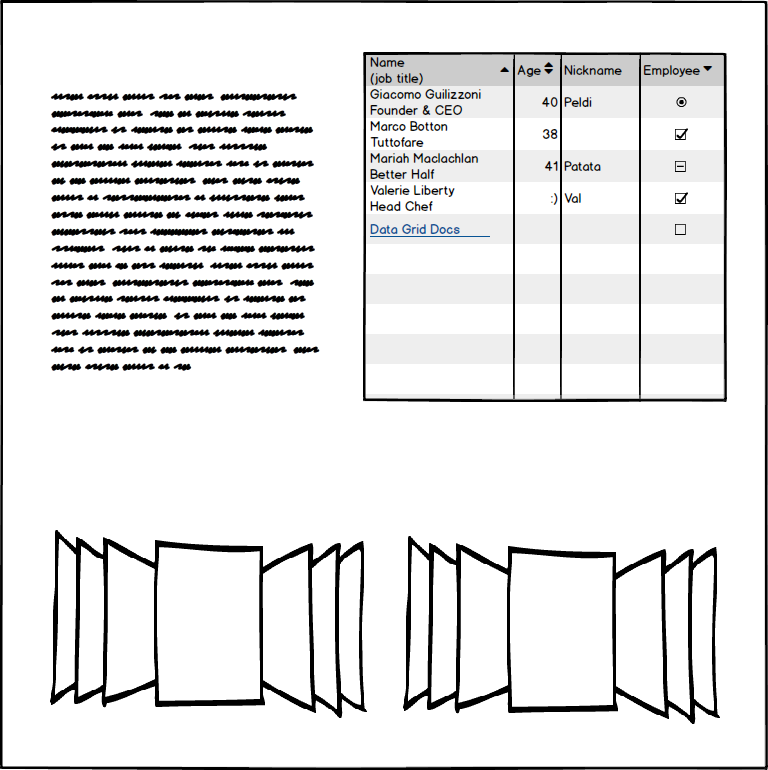p: (38, 83, 332, 387)
slideshow: (392, 523, 731, 733), (39, 521, 373, 724)
table: (355, 48, 733, 406)
